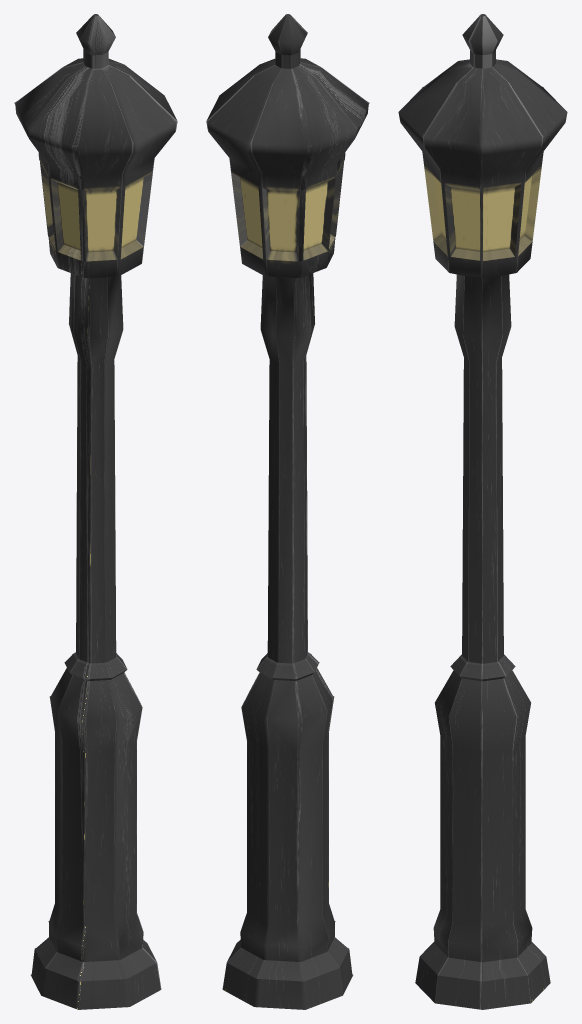
Rendered from lampara.obj.
The picture shows the model from 3 angles, left to right: view 1: azimuth 30°, elevation 25°; view 2: azimuth 150°, elevation 25°; view 3: azimuth 270°, elevation 25°; orthographic projection.
Visible parts, largest first — view 1: Farola_animal_crossing_Material.001; view 2: Farola_animal_crossing_Material.001; view 3: Farola_animal_crossing_Material.001.
Part boxes in pixels (bbox=[...]): Farola_animal_crossing_Material.001: bbox=[14, 14, 177, 1009]; Farola_animal_crossing_Material.001: bbox=[206, 14, 369, 1009]; Farola_animal_crossing_Material.001: bbox=[398, 14, 567, 1009].
Bounding box in the file's own units: 1.38 × 9.31 × 1.47.
